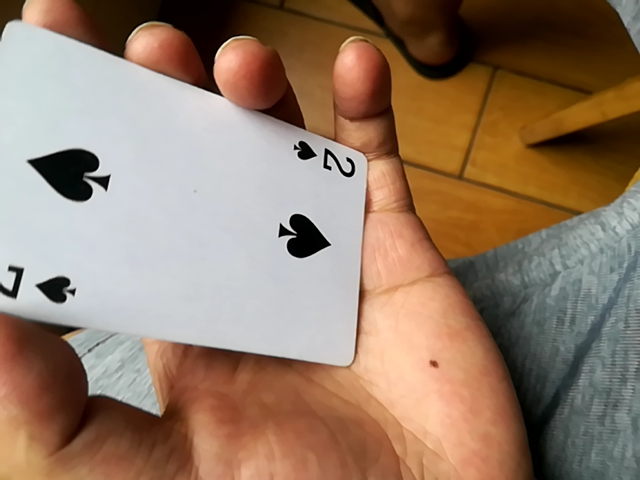ht 2: (5, 18, 373, 373)
